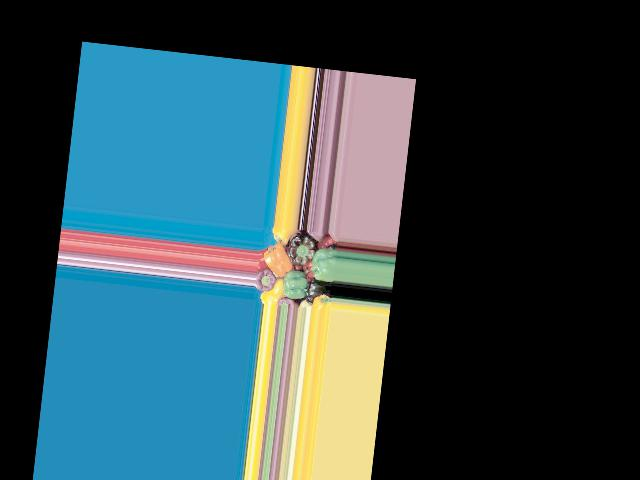bell_pepper: (313, 245, 338, 281)
